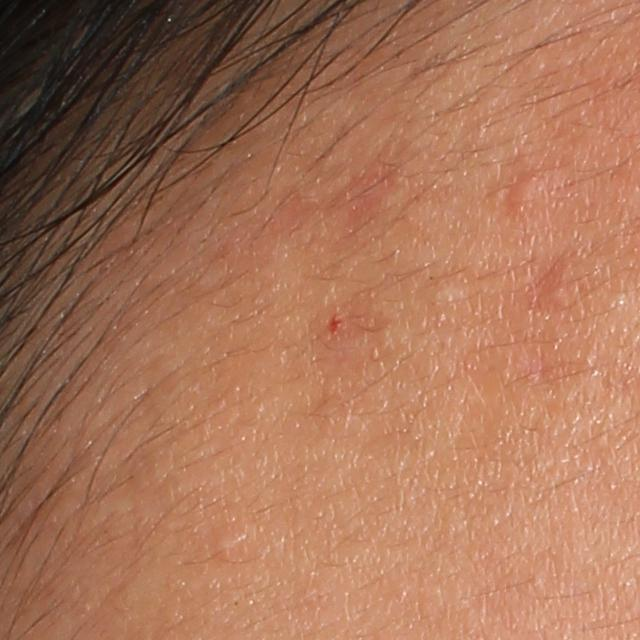comedo: (535, 262, 578, 310), (431, 281, 470, 306), (214, 532, 239, 557)
